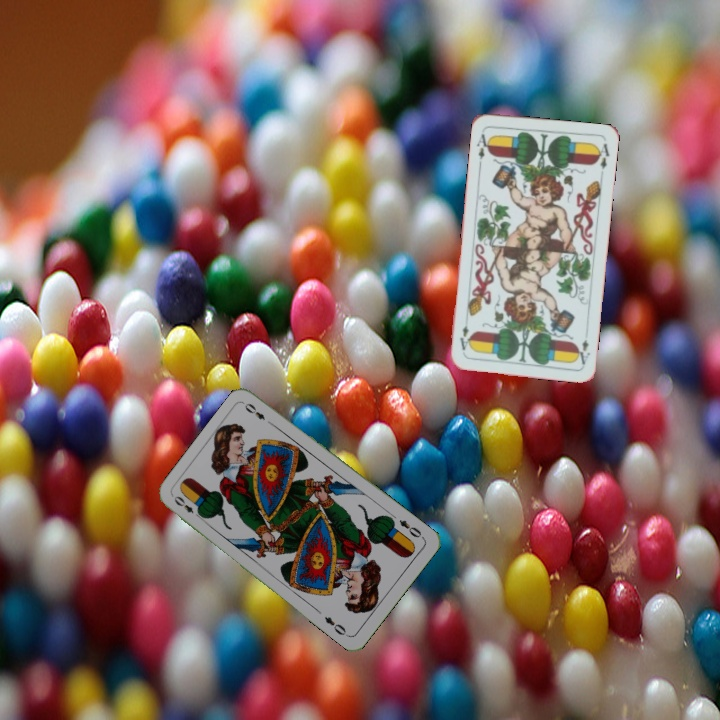EA: (472, 127, 493, 167), (573, 336, 592, 367)
EO: (170, 492, 205, 522), (395, 516, 427, 541)
